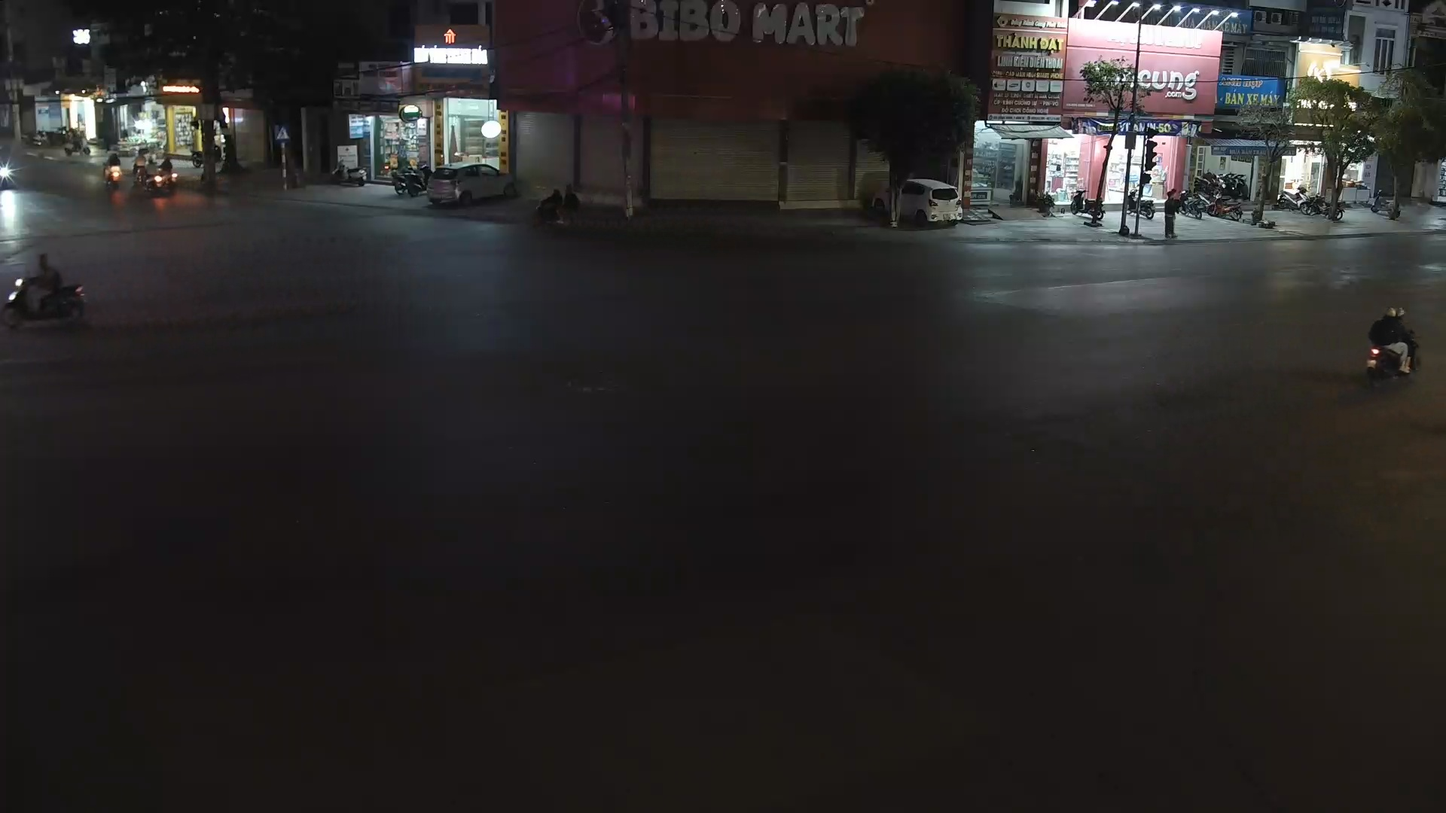motorbike: (3, 250, 88, 330), (1361, 303, 1424, 392)
